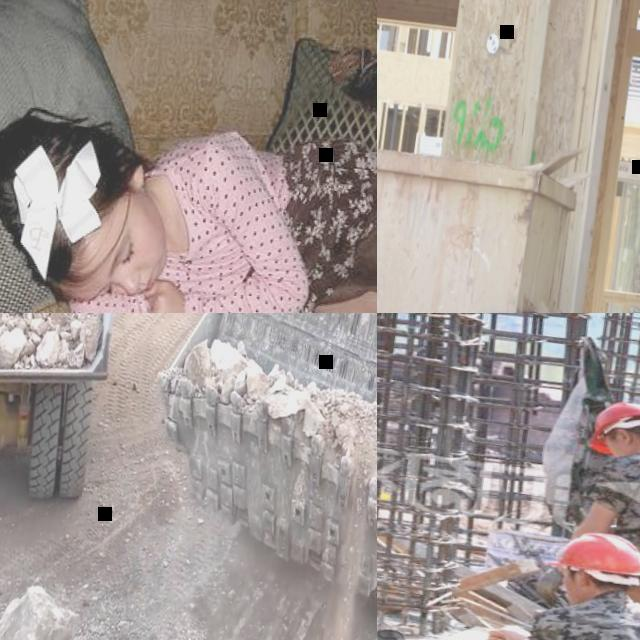helmet: (540, 523, 640, 589), (583, 396, 640, 467)
machinery: (123, 313, 377, 635), (0, 313, 150, 542)
no_helmet: (0, 110, 141, 302)
no_mask: (133, 222, 172, 295), (605, 438, 637, 462), (562, 582, 584, 606)
no_vest: (156, 130, 292, 308), (594, 443, 640, 589), (525, 592, 640, 640)
person: (0, 82, 377, 313), (442, 519, 640, 640), (557, 394, 640, 640)
